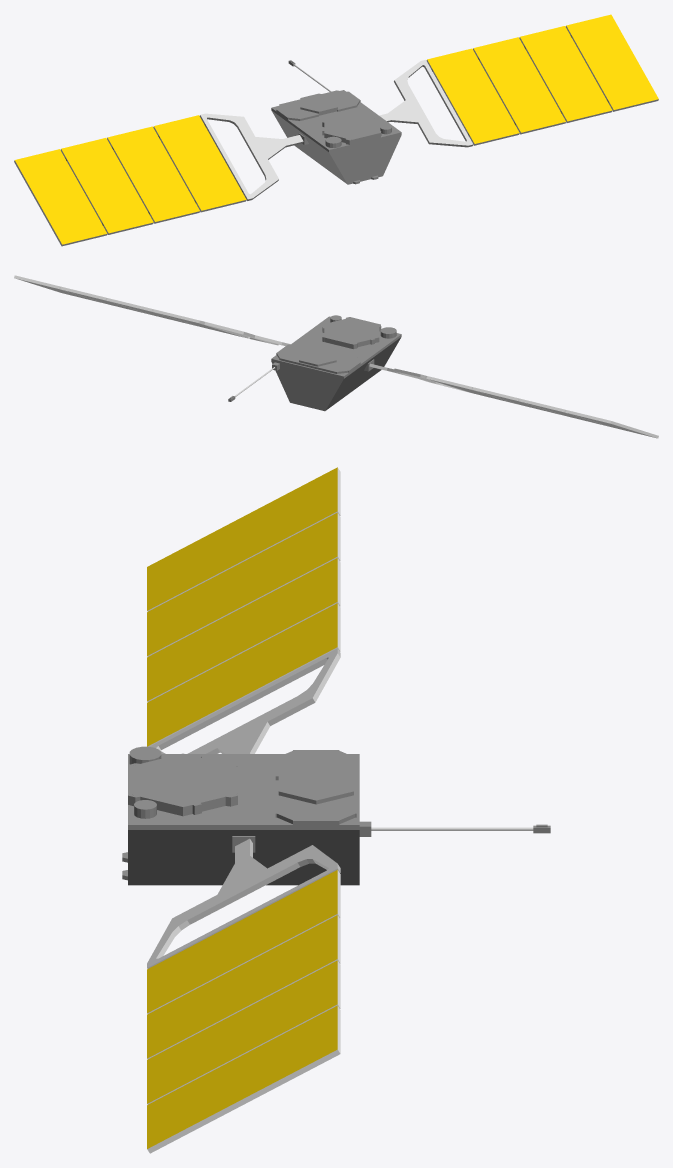
File: satmod.dae
The picture shows the model from 3 angles, top to bottom: view 1: azimuth 30°, elevation 25°; view 2: azimuth 150°, elevation 25°; view 3: azimuth 270°, elevation 25°; orthographic projection. The views are drawn at different scales.
Parts seen in each view (by area): view 1: Obj021, Obj034, Obj019, Obj027, Obj029, Obj032, Obj024, Obj026, Obj43, Obj040, Obj066, Obj68 (+5 smaller); view 2: Obj43, Obj68, Obj005, Obj001, Obj002, Obj018, Obj066, Obj040; view 3: Obj43, Obj019, Obj024, Obj027, Obj032, Obj029, Obj026, Obj034, Obj021, Obj68, Obj005, Obj066 (+5 smaller).
Part boxes in pixels (x1,y1,x2,y2): Obj021: [107, 126, 199, 221]; Obj034: [427, 48, 519, 143]; Obj019: [154, 115, 246, 210]; Obj027: [566, 14, 658, 109]; Obj029: [520, 26, 612, 121]; Obj032: [473, 37, 565, 132]; Obj024: [61, 138, 153, 233]; Obj026: [15, 149, 107, 244]; Obj43: [271, 108, 401, 184]; Obj040: [199, 113, 278, 200]; Obj066: [394, 60, 473, 147]; Obj68: [271, 90, 401, 149]; Obj43: [271, 334, 401, 411]; Obj68: [271, 316, 401, 376]; Obj005: [324, 317, 379, 343]; Obj001: [276, 343, 359, 371]; Obj002: [299, 346, 336, 364]; Obj018: [565, 410, 658, 438]; Obj066: [199, 320, 278, 345]; Obj040: [394, 368, 470, 392]; Obj43: [128, 825, 359, 885]; Obj019: [147, 603, 337, 746]; Obj024: [147, 512, 337, 655]; Obj027: [147, 1005, 337, 1148]; Obj032: [147, 915, 337, 1058]; Obj029: [147, 960, 337, 1103]; Obj026: [147, 467, 337, 610]; Obj034: [147, 870, 337, 1013]; Obj021: [147, 558, 337, 701]; Obj68: [128, 754, 359, 824]; Obj005: [128, 753, 237, 806]; Obj066: [147, 845, 340, 968].
Size of the model in its own units: 1.33e+08 by 4.12e+07 by 1.17e+07.
